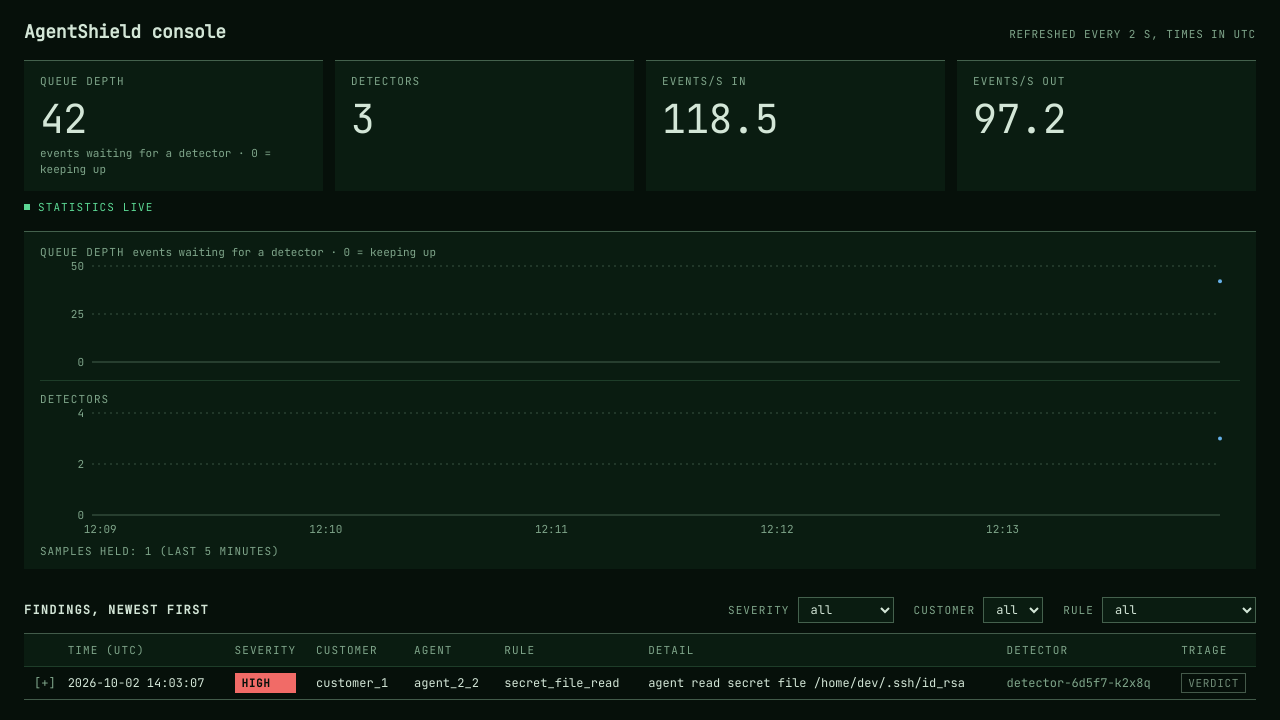
Test: keeps a verdict that starts with neither word out of the triage cell
Expected: the cell "verdict" is shown, [1171,666,1256,700]
Click the button named "show details": coordinates (45, 683) [34,673,56,693]
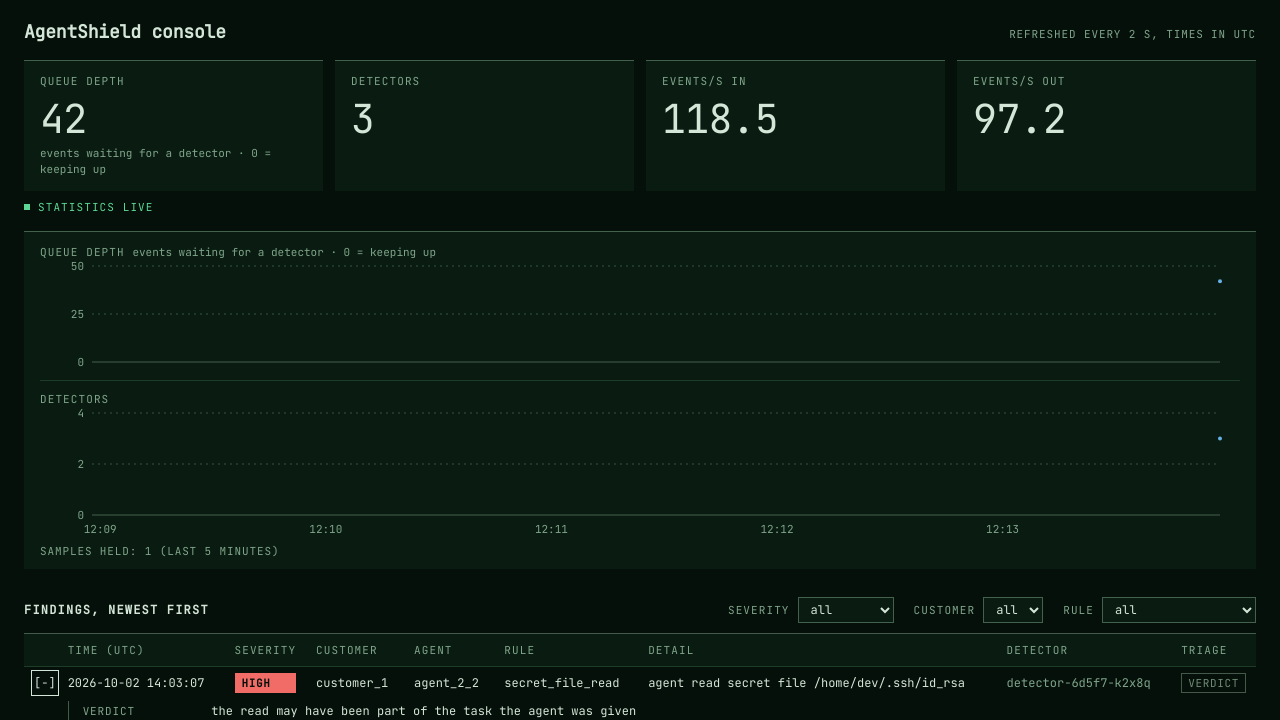
Expected: the text "the read may have been part of the task the agent was given" is shown, [211,703,636,719]
